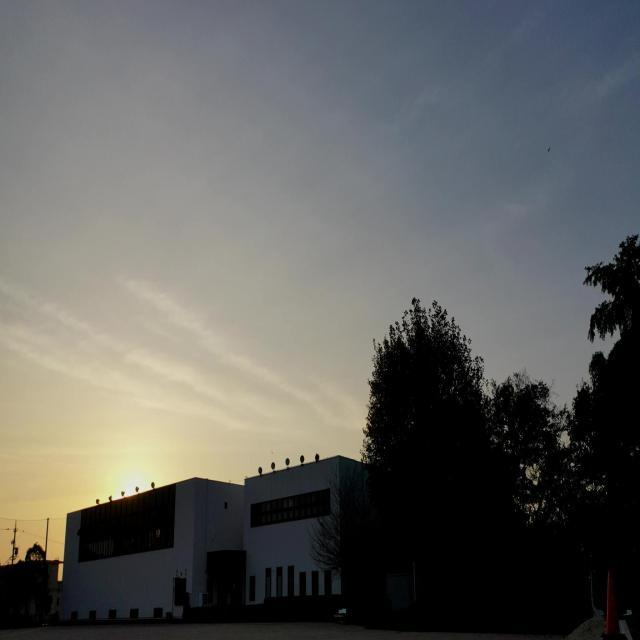Birds: (270, 449, 276, 457)
